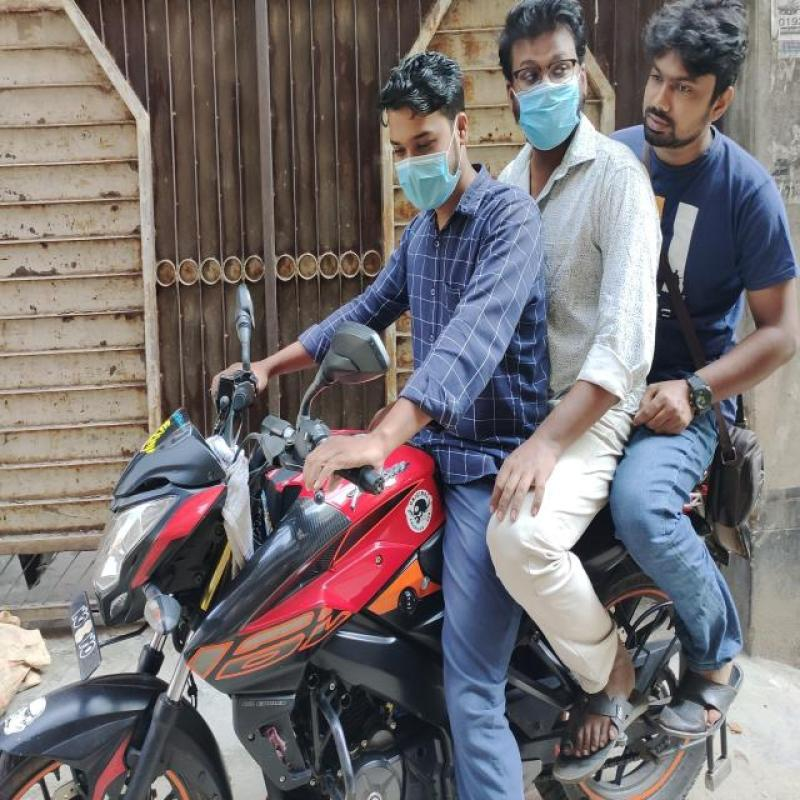nohelmet: (377, 43, 484, 226), (640, 3, 745, 173), (498, 0, 588, 161)
